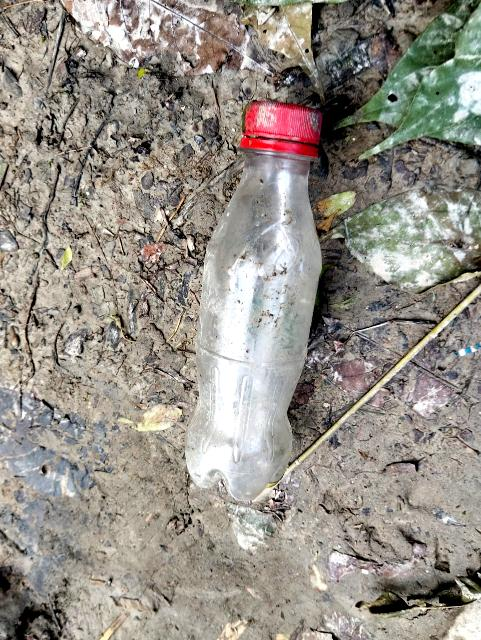bottle: (166, 74, 356, 494)
